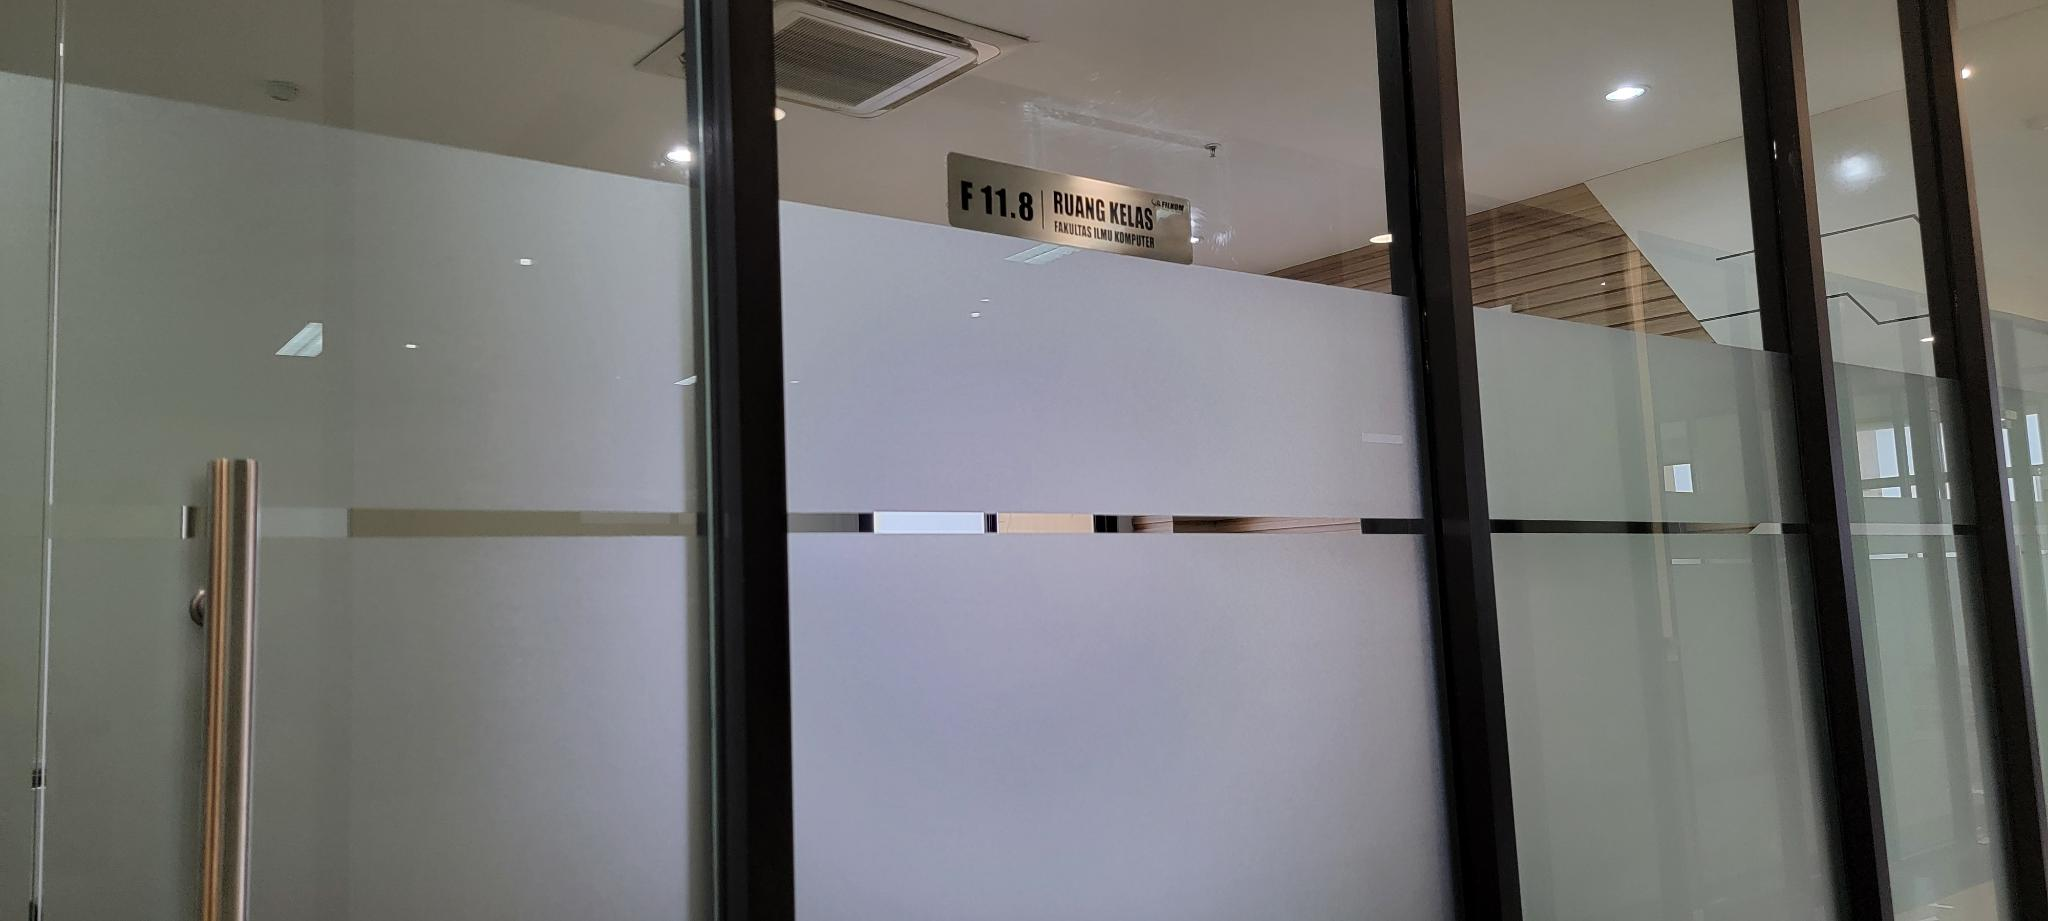plate: (944, 150, 1194, 264)
